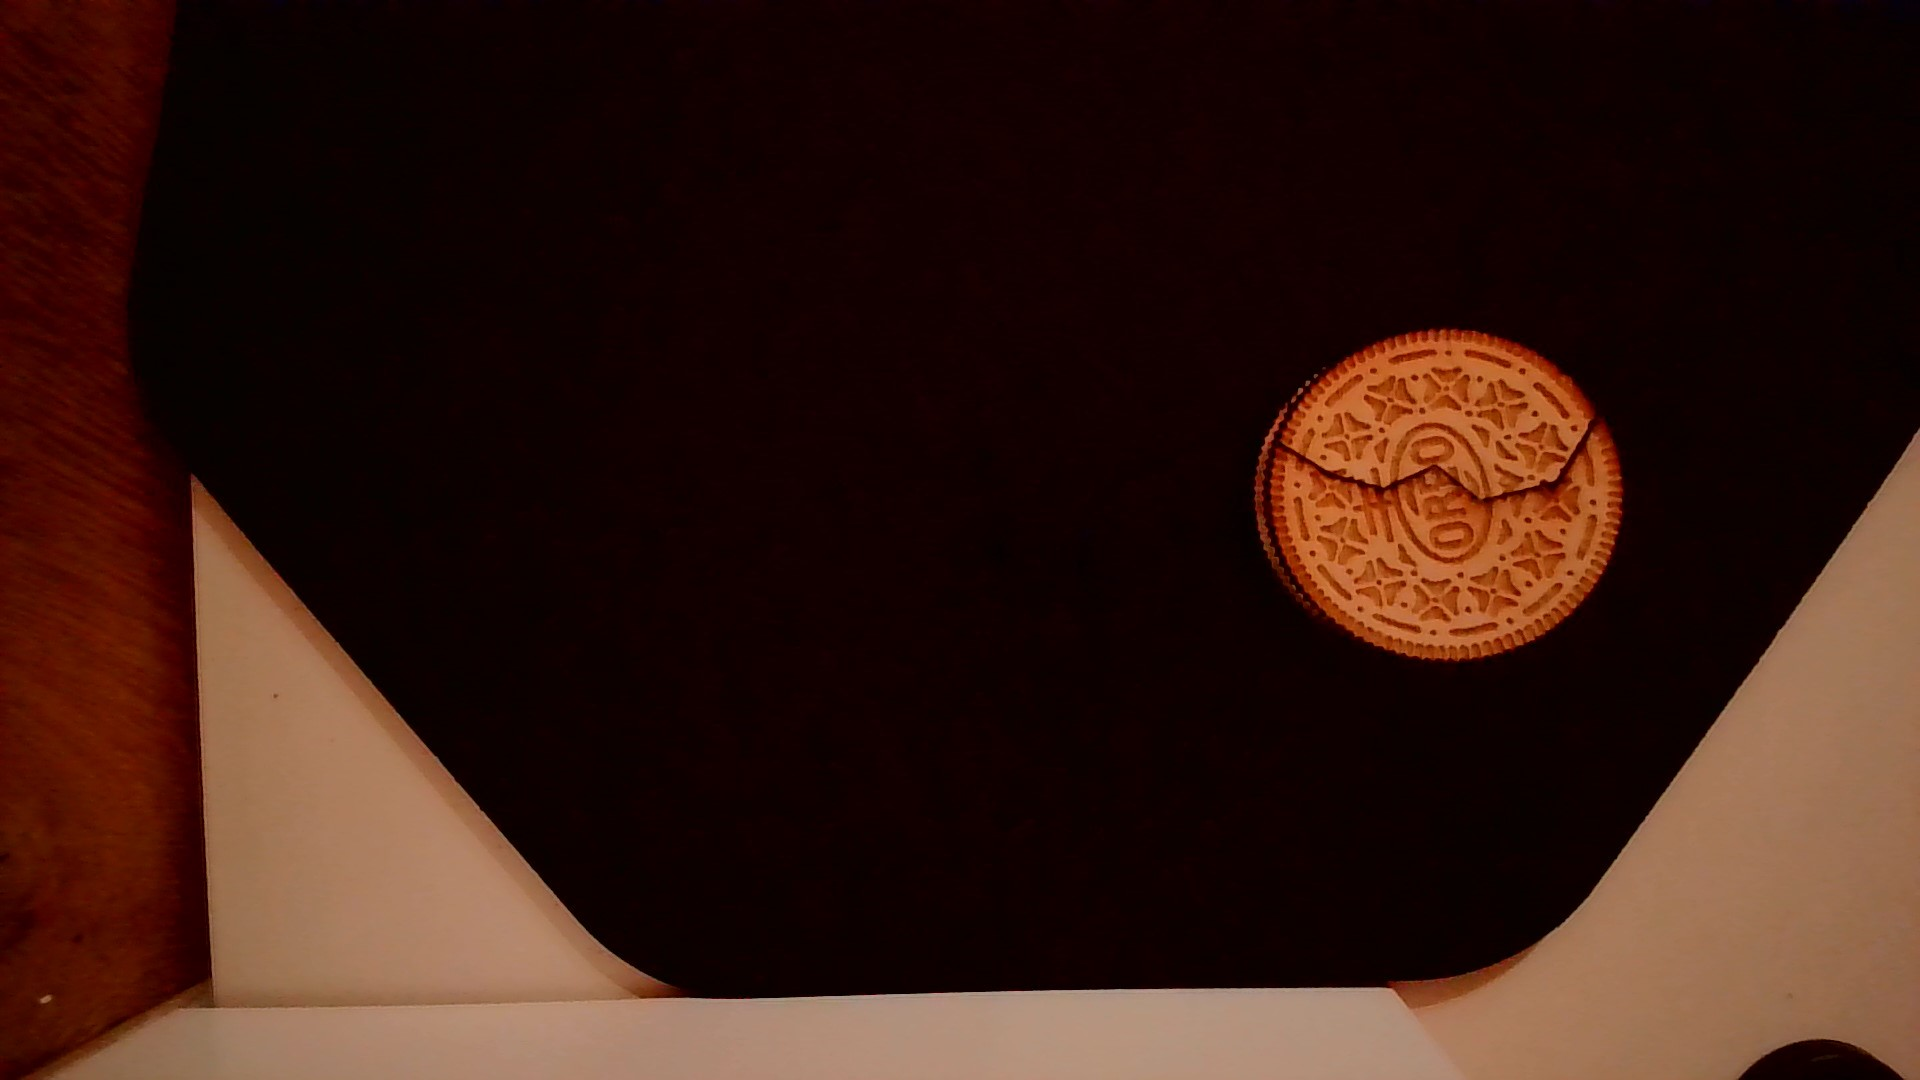Fissure: (1259, 409, 1623, 506)
Oréo: (1251, 319, 1625, 669)
